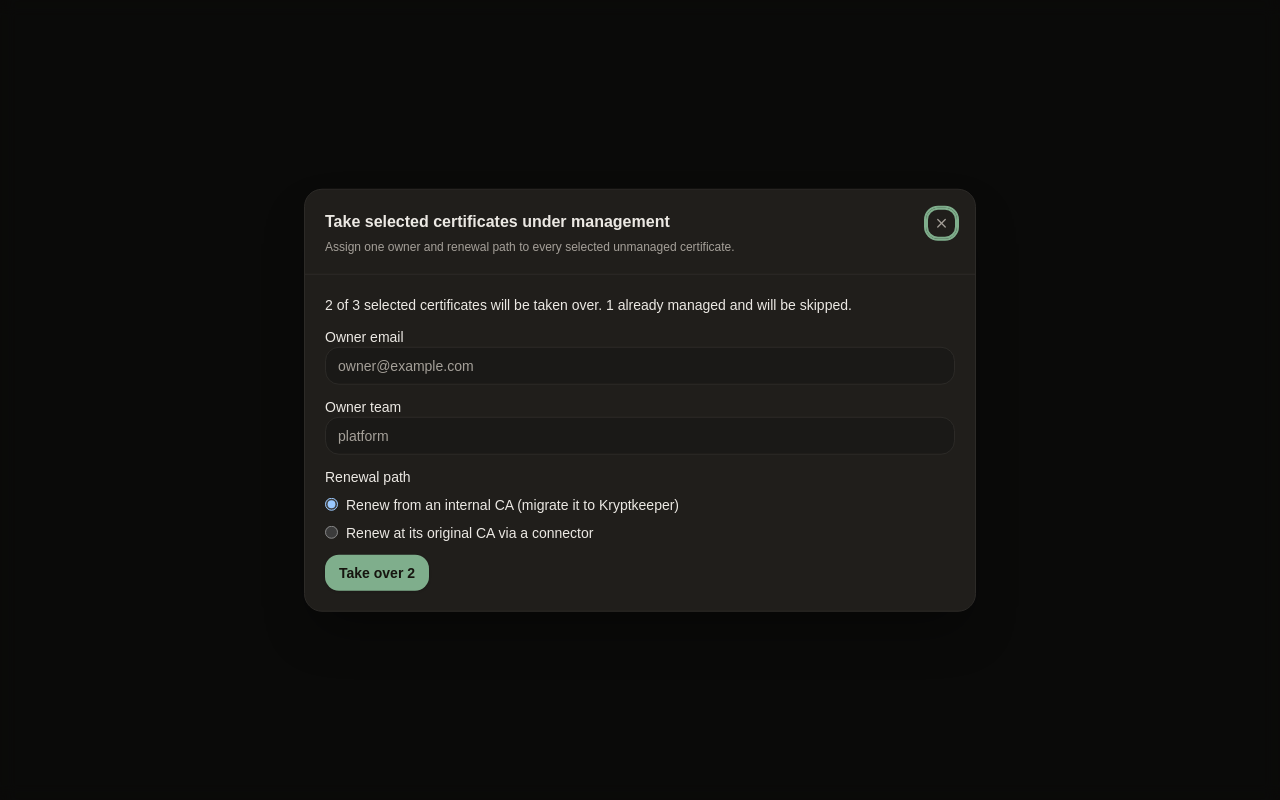
Test: BulkTakeoverDialog › request error keeps the form and shows the message
Click the button "Take over 2": (377, 572) [325,554,429,590]
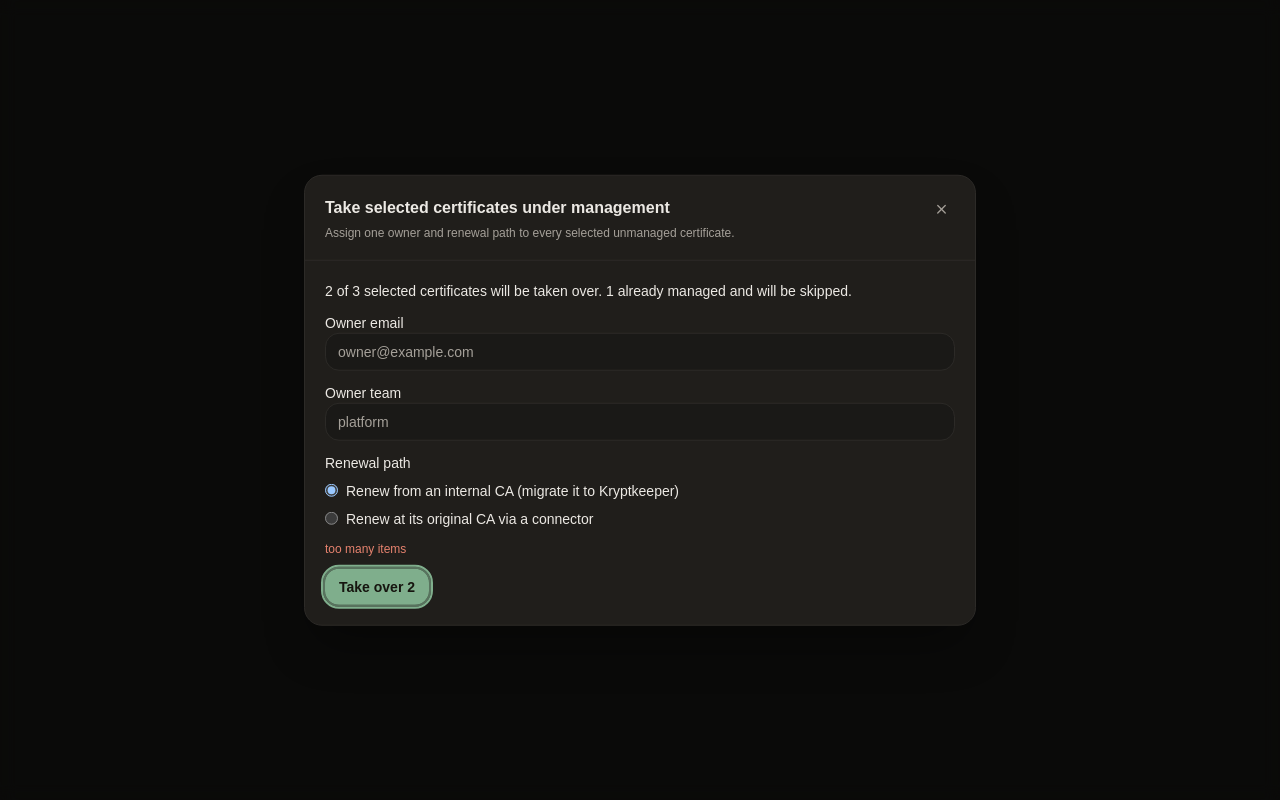
expect the field named "Takeover owner email" is shown: met, box [325,332,955,370]
expect the text "too many items" is shown: met, box [325,541,406,555]
